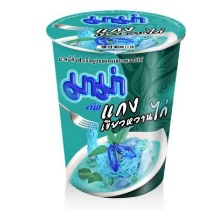paper_cup: (41, 6, 189, 201)
